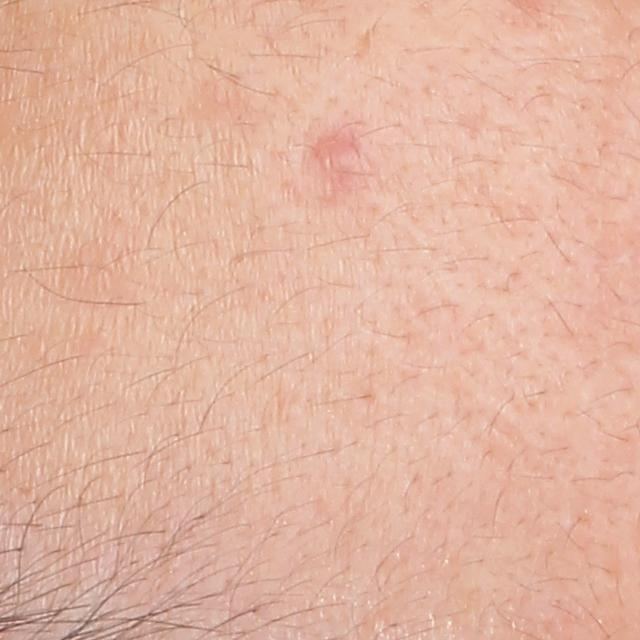papule: (308, 129, 363, 181)
